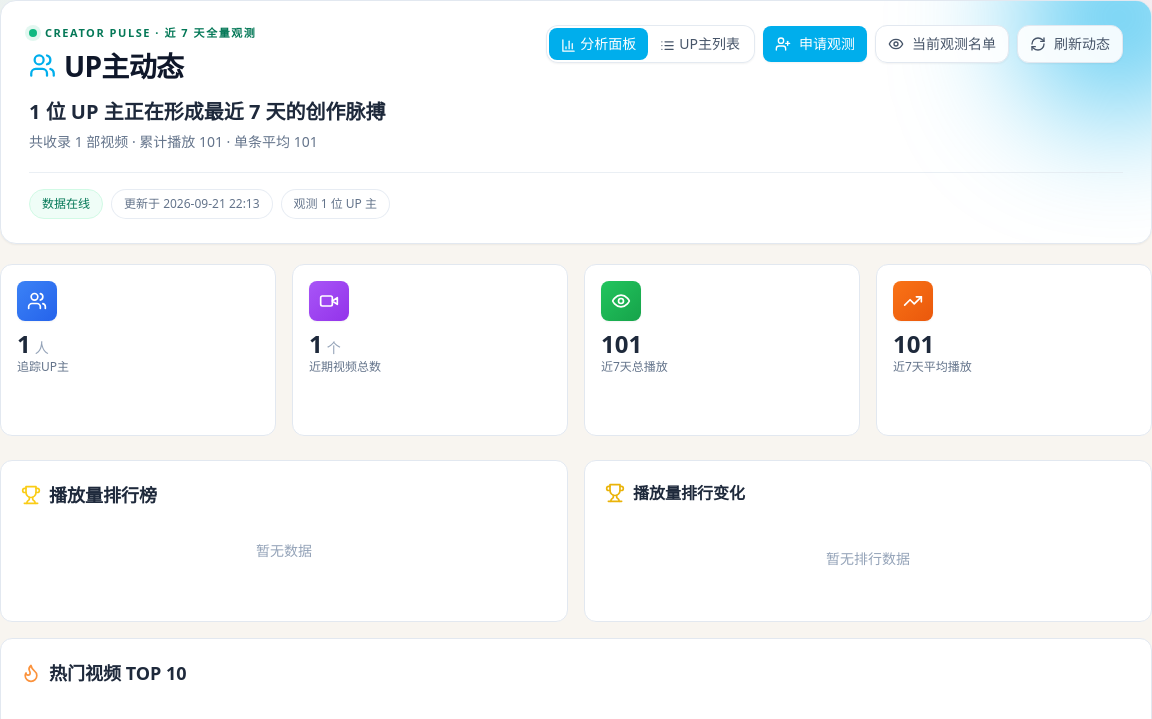
Test: durable analysis jobs › loads saved data and shows partial followup failure
Click the button "刷新动态" at (1070, 44), box [1017,25,1123,63]
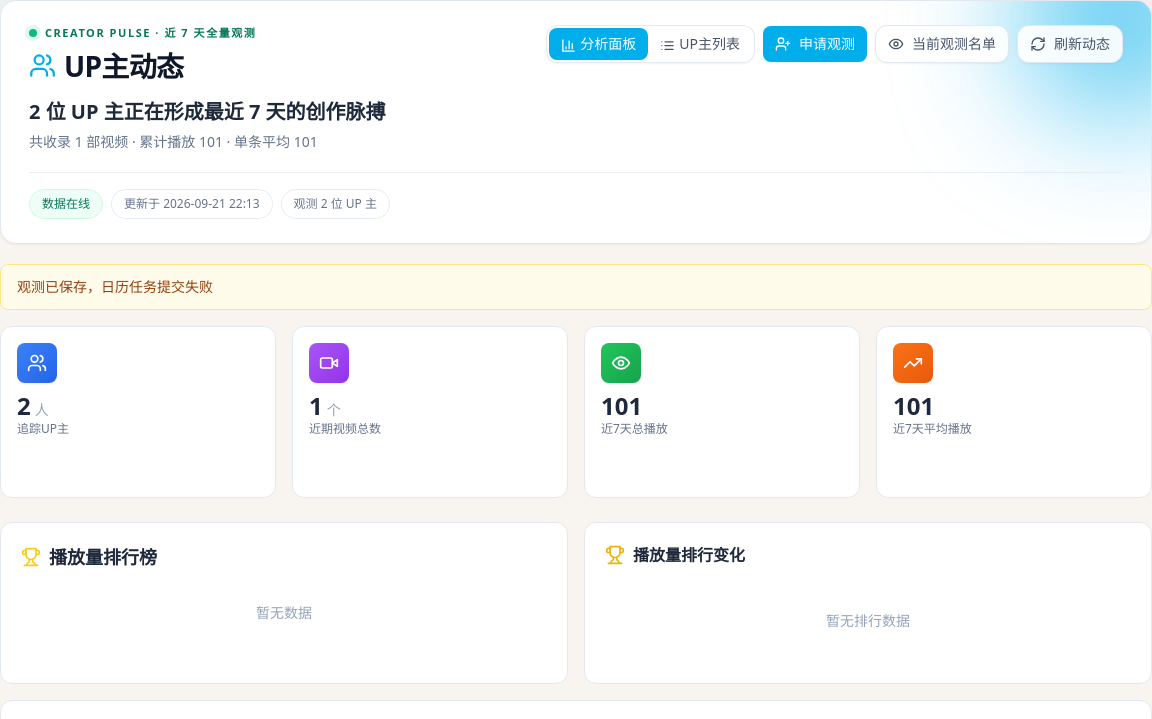
Expected: the text "观测已保存，日历任务提交失败" is shown, [0,264,1151,310]
Expected: the text "观测 2 位 UP 主" is shown, [281,188,390,218]
